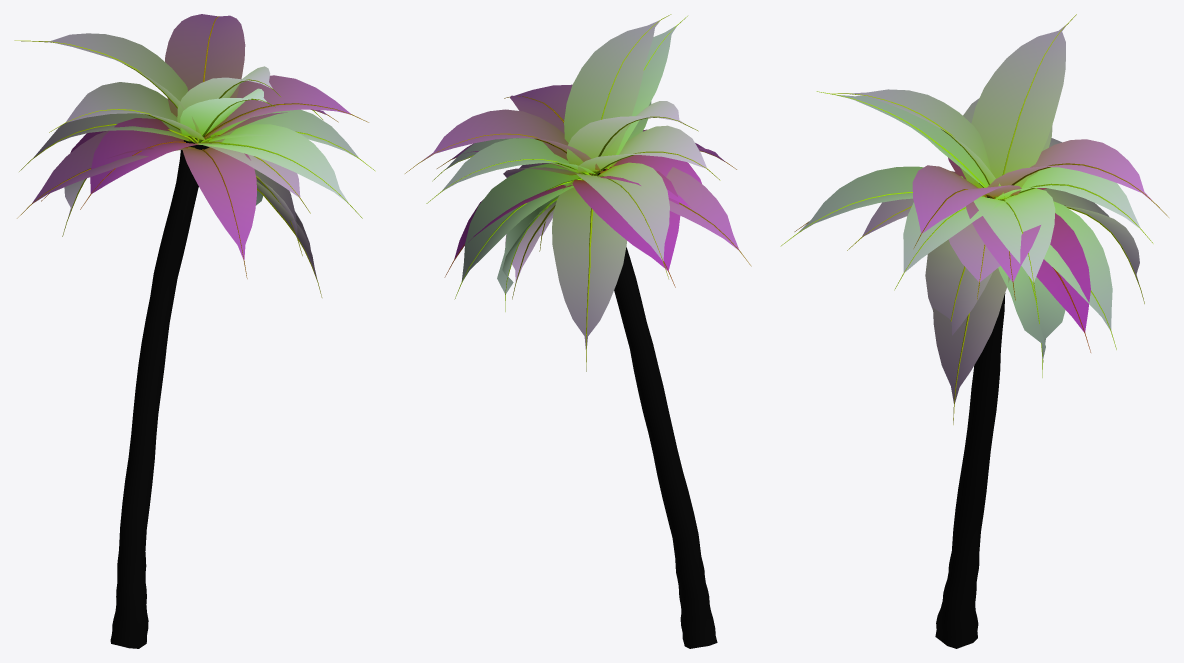
File: tree_palm_a.glb
The picture shows the model from 3 angles, left to right: view 1: azimuth 30°, elevation 25°; view 2: azimuth 150°, elevation 25°; view 3: azimuth 270°, elevation 25°; orthographic projection. The views are drawn at different scales.
Visible parts, largest first — view 1: tree_palm_a; view 2: tree_palm_a; view 3: tree_palm_a.
Boxes of the visible parts, bbox=[...] form: tree_palm_a: bbox=[14, 14, 375, 648]; tree_palm_a: bbox=[405, 14, 751, 648]; tree_palm_a: bbox=[780, 14, 1168, 648].
Size of the model in its own units: 7.44 by 12.74 by 7.54.
